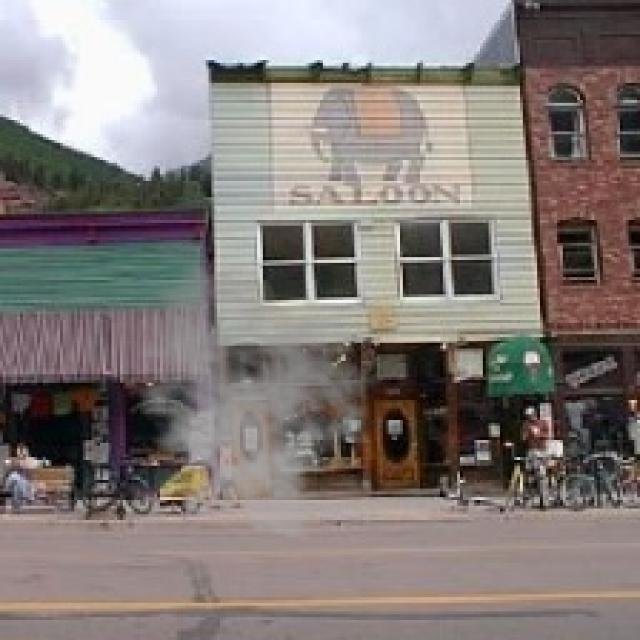Smoke: (111, 260, 380, 540)
